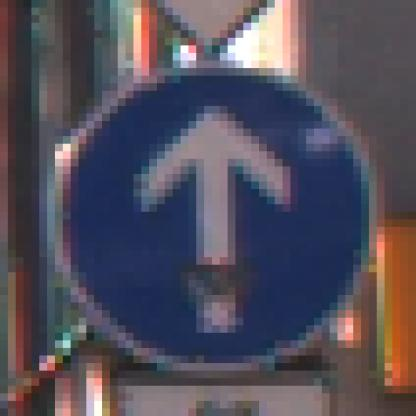AheadOnly: (48, 47, 378, 372)
